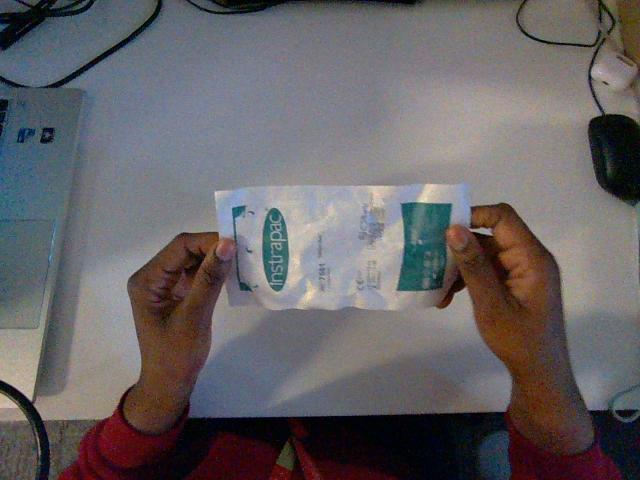gallipot: (215, 184, 469, 309)
